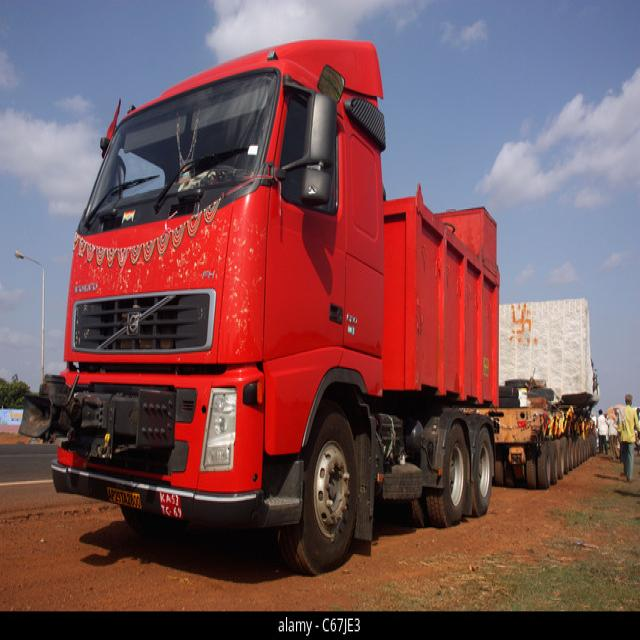normal_truck: (20, 41, 594, 574)
overloaded_truck: (499, 302, 594, 399)
